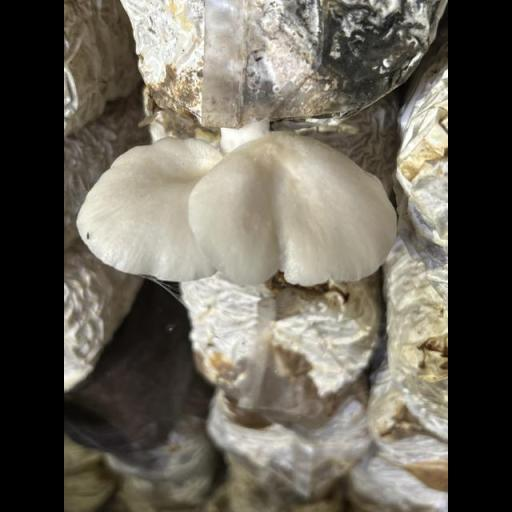White Oyster Mushroom: (81, 128, 395, 287)
